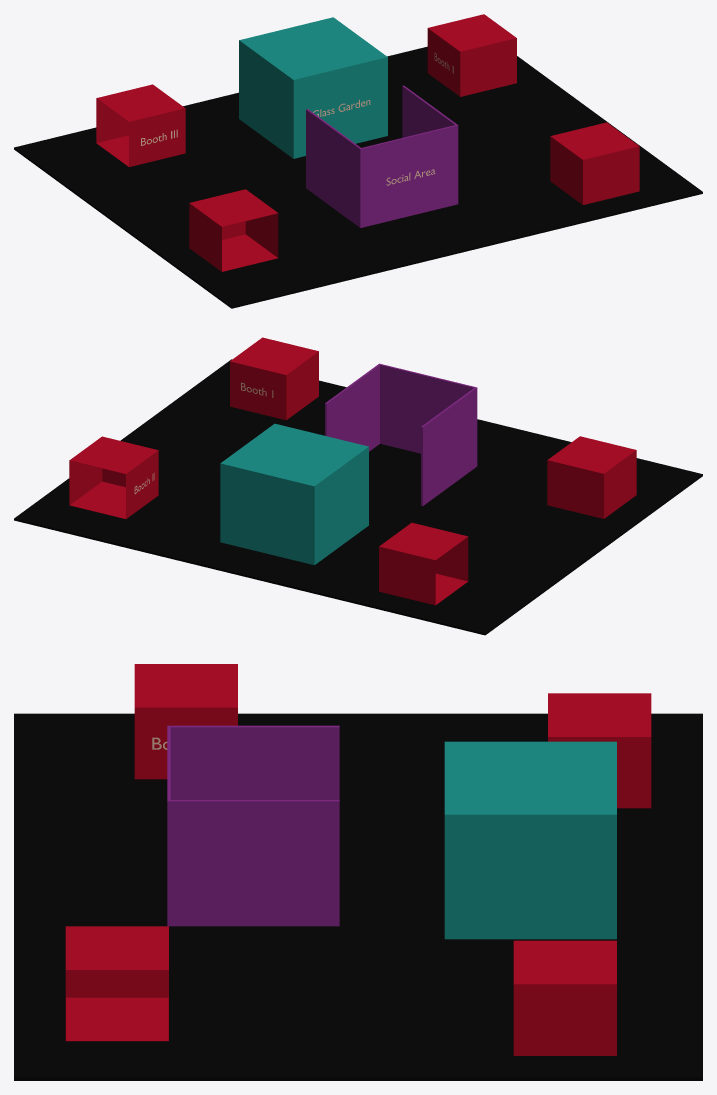
Rendered from demo_model.glb.
The picture shows the model from 3 angles, top to bottom: view 1: azimuth 30°, elevation 25°; view 2: azimuth 150°, elevation 25°; view 3: azimuth 270°, elevation 25°; orthographic projection. The views are drawn at different scales.
Visible parts, largest first — view 1: Floor, Glass_Garden, Social_Area, Booth_4, Booth_1, Booth_2, Booth_3; view 2: Floor, Glass_Garden, Social_Area, Booth_3, Booth_4, Booth_2, Booth_1; view 3: Floor, Social_Area, Glass_Garden, Booth_1, Booth_2, Booth_4, Booth_3.
Boxes of the visible parts, x1,y1,x2,y2 form: Floor: (14, 46, 702, 308); Glass_Garden: (239, 17, 387, 158); Social_Area: (306, 85, 458, 227); Booth_4: (189, 189, 278, 271); Booth_1: (550, 122, 639, 204); Booth_2: (427, 14, 516, 96); Booth_3: (96, 84, 185, 166); Floor: (14, 359, 702, 635); Glass_Garden: (220, 423, 368, 565); Social_Area: (325, 363, 477, 505); Booth_3: (379, 522, 468, 605); Booth_4: (547, 436, 636, 518); Booth_2: (69, 436, 158, 519); Booth_1: (230, 337, 318, 420); Floor: (14, 713, 702, 1080); Social_Area: (167, 725, 339, 926); Glass_Garden: (444, 741, 616, 939); Booth_1: (65, 926, 168, 1041); Booth_2: (513, 940, 616, 1055); Booth_4: (134, 664, 237, 779); Booth_3: (548, 693, 651, 808).
Size of the model in its own units: 25 by 4.1 by 20.
